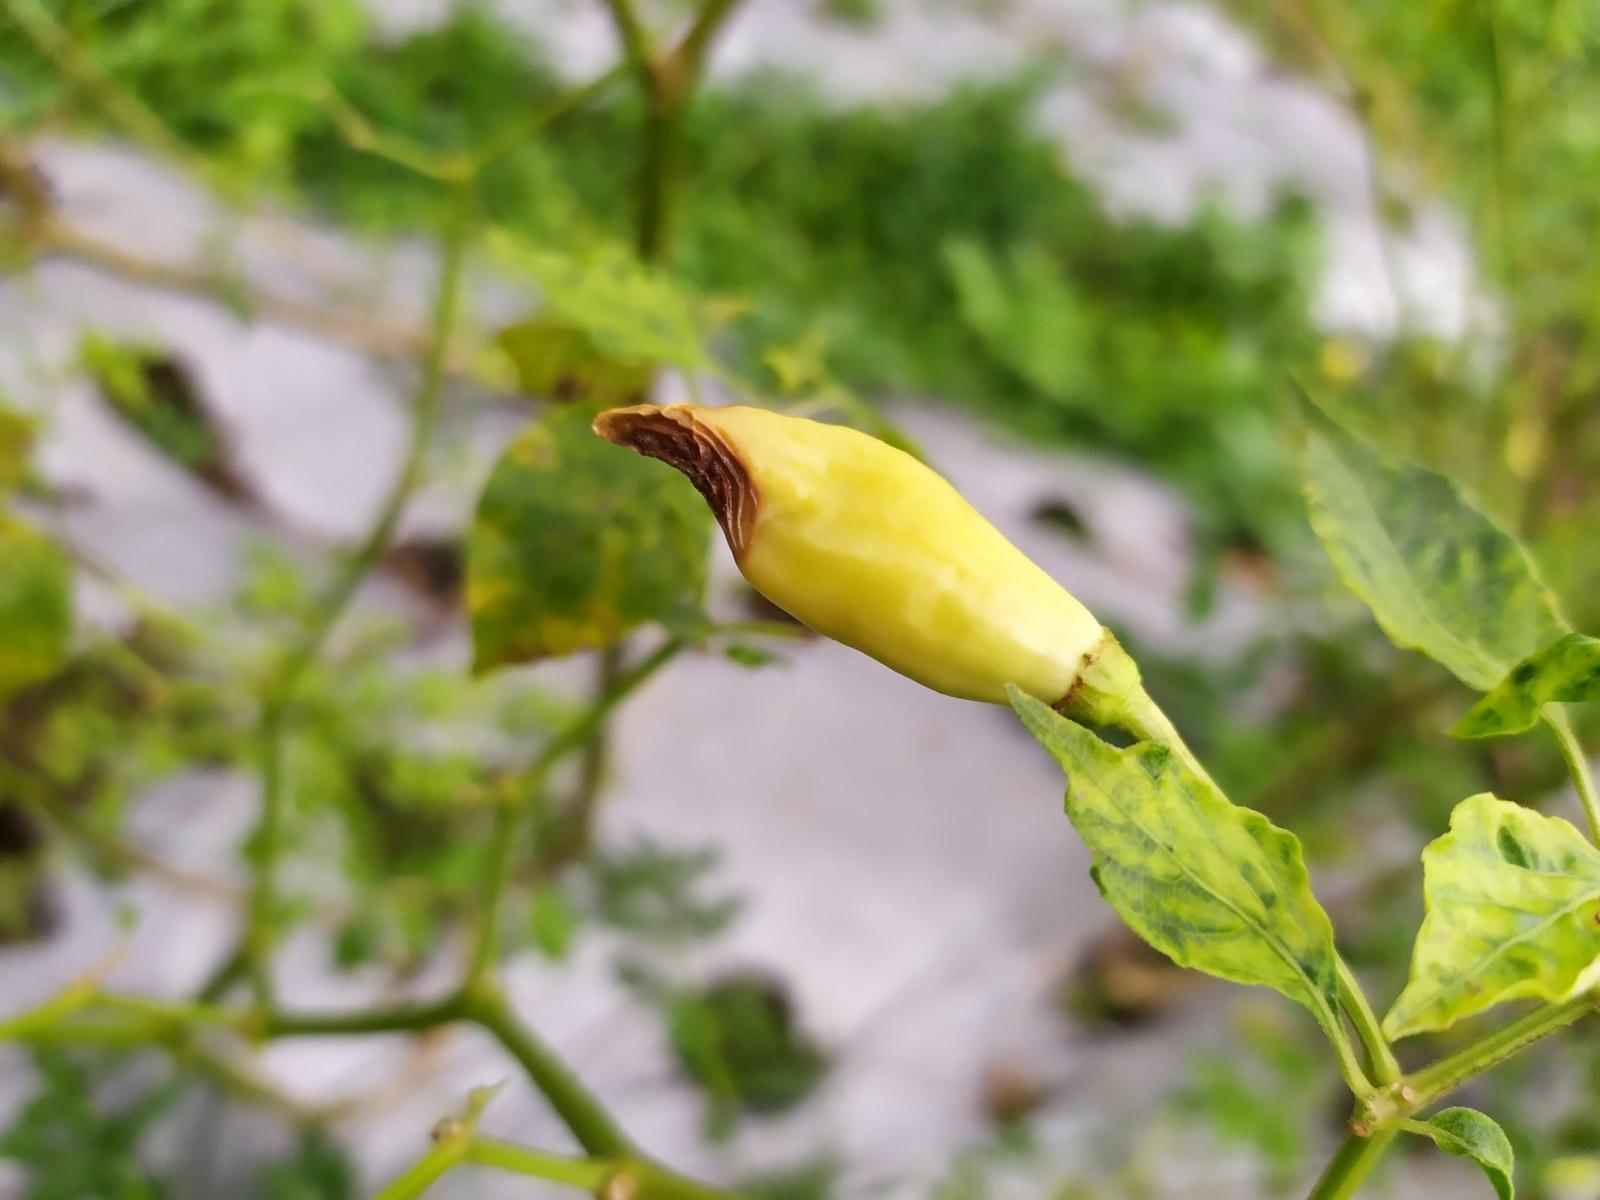antraknosa: (590, 403, 1111, 715)
